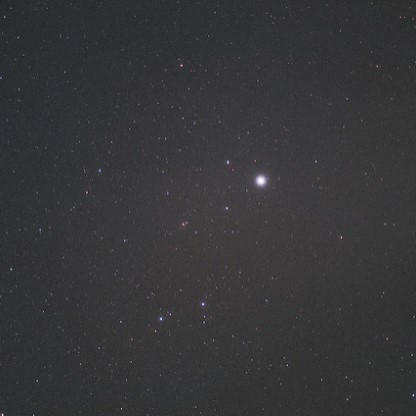Lyra: (250, 171, 270, 190), (193, 294, 210, 311), (176, 213, 189, 232), (220, 201, 236, 214), (220, 155, 233, 169), (156, 311, 167, 325)
